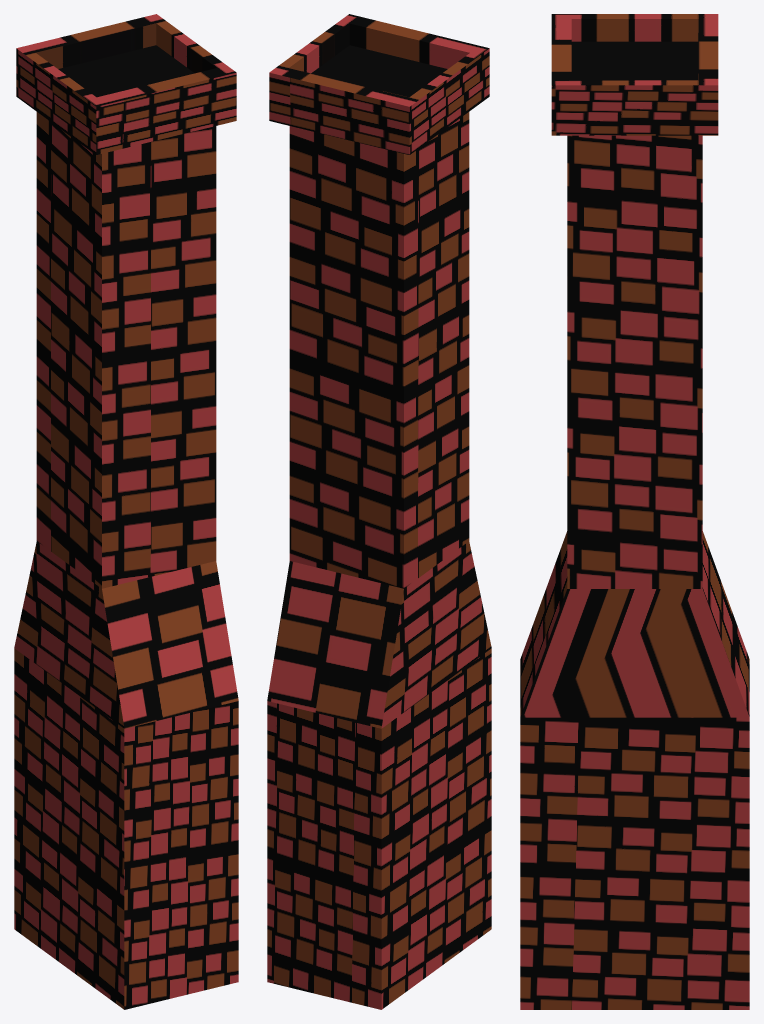
Rendered from chimney.fbx.
3 views of the same model, side by side, from view 1: azimuth 30°, elevation 25°; view 2: azimuth 150°, elevation 25°; view 3: azimuth 270°, elevation 25° (orthographic). The views are drawn at different scales.
Parts seen in each view (by area): view 1: Cube; view 2: Cube; view 3: Cube.
Part boxes in pixels (box(x1,y1,x2,y2)): Cube: box(14, 14, 238, 1009); Cube: box(267, 14, 491, 1009); Cube: box(520, 14, 749, 1009).
Bounding box in the file's own units: 147 × 896 × 200.
